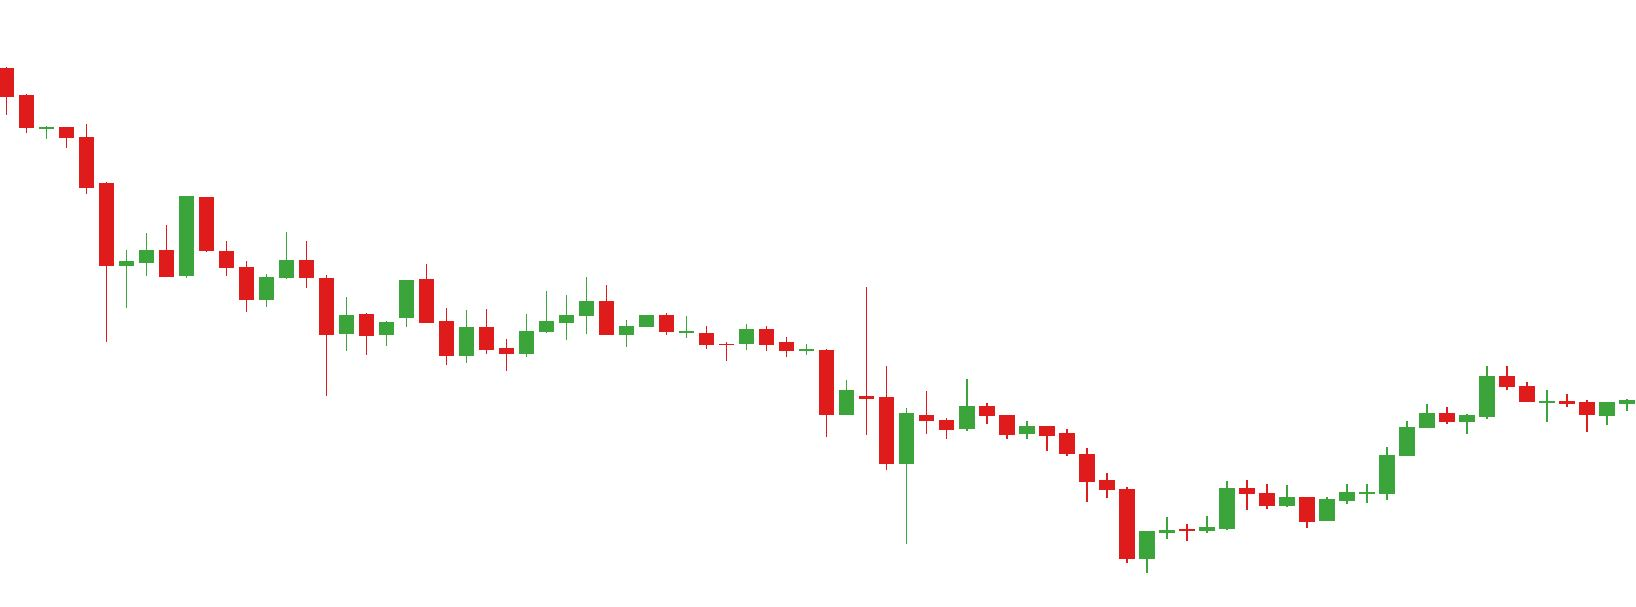buy: (897, 429, 1161, 574)
